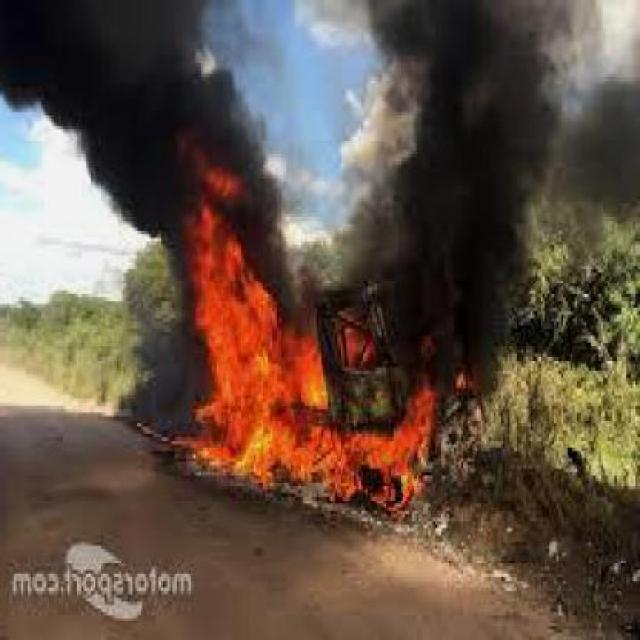Fire: (168, 175, 317, 497), (318, 336, 476, 510)
Smoke: (331, 0, 638, 334), (1, 0, 177, 249), (250, 0, 292, 277)
